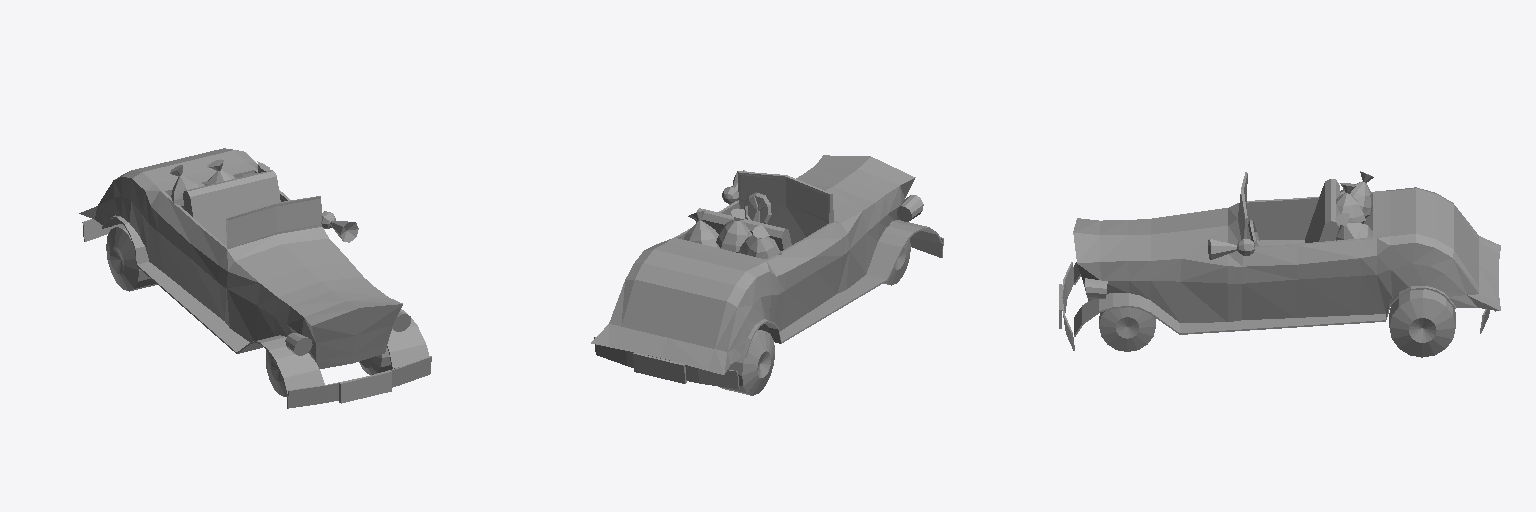
The model's file is firstCar.obj.
3 views of the same model, side by side, from view 1: azimuth 30°, elevation 25°; view 2: azimuth 150°, elevation 25°; view 3: azimuth 270°, elevation 25° (orthographic).
Visible parts, largest first — view 1: mesh0000; view 2: mesh0000; view 3: mesh0000.
Boxes of the visible parts, <box> form: mesh0000: <box>79,148,431,408</box>; mesh0000: <box>591,155,943,395</box>; mesh0000: <box>1059,171,1500,357</box>.
Size of the model in its own units: 16.18 by 15.29 by 43.27.